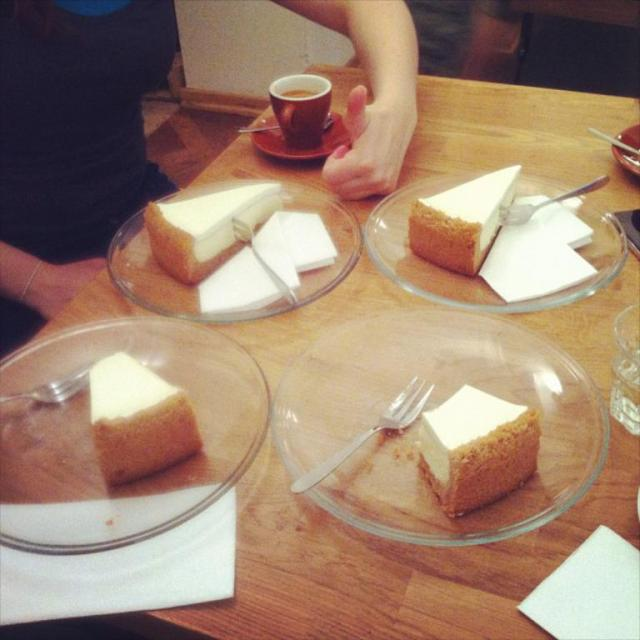Coffee: (271, 56, 353, 154)
Tea: (283, 82, 315, 99)
